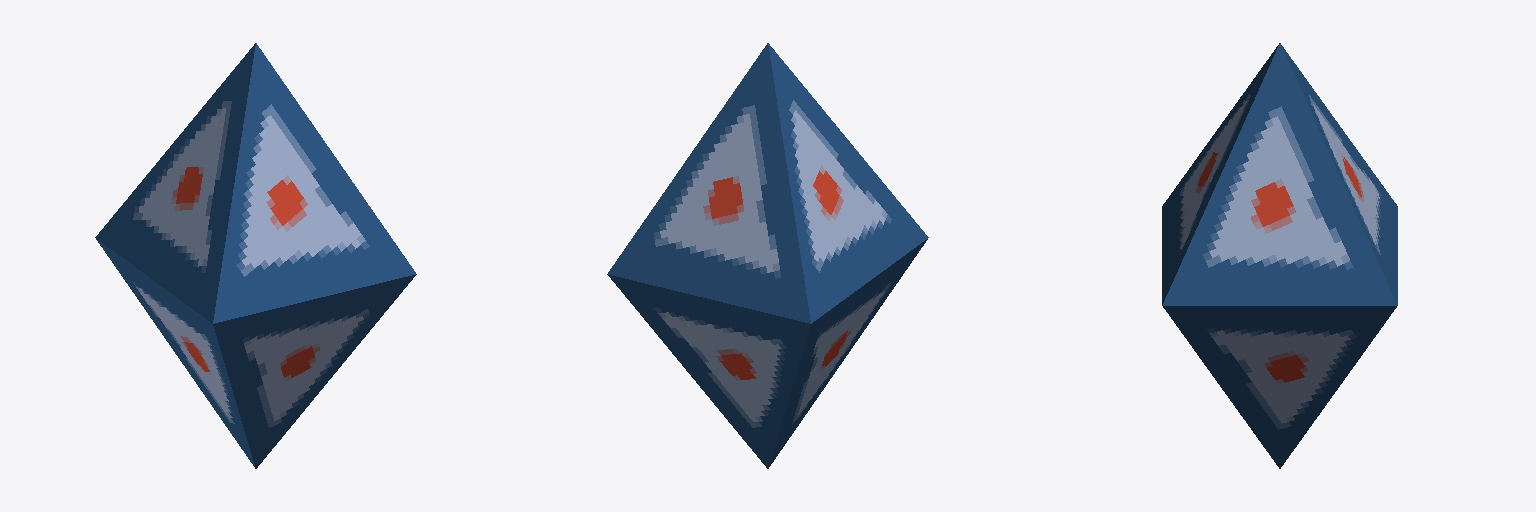
3 views of the same model, side by side, from view 1: azimuth 30°, elevation 25°; view 2: azimuth 150°, elevation 25°; view 3: azimuth 270°, elevation 25° (orthographic).
Parts seen in each view (by area): view 1: left; view 2: left; view 3: left.
Part boxes in pixels (bbox=[...]): left: bbox=[95, 43, 416, 468]; left: bbox=[607, 43, 928, 468]; left: bbox=[1162, 43, 1397, 468].
Bounding box in the file's own units: 2 × 4 × 2.
Materials: 1 (1 with a texture image).